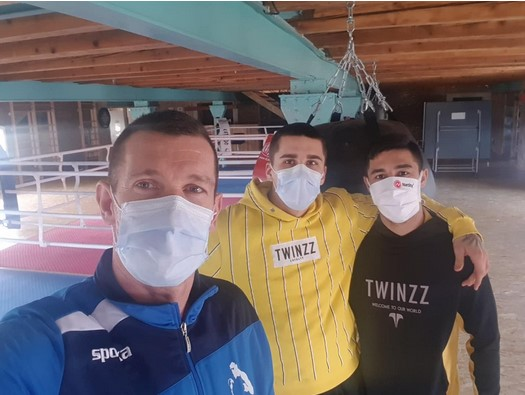face_with_mask: (95, 112, 225, 290), (265, 125, 328, 216), (364, 139, 429, 225)
